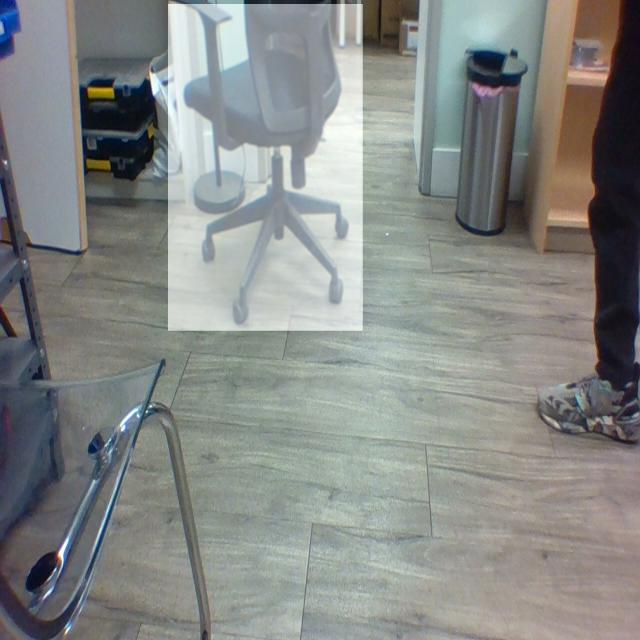black-chair: (168, 4, 364, 332)
